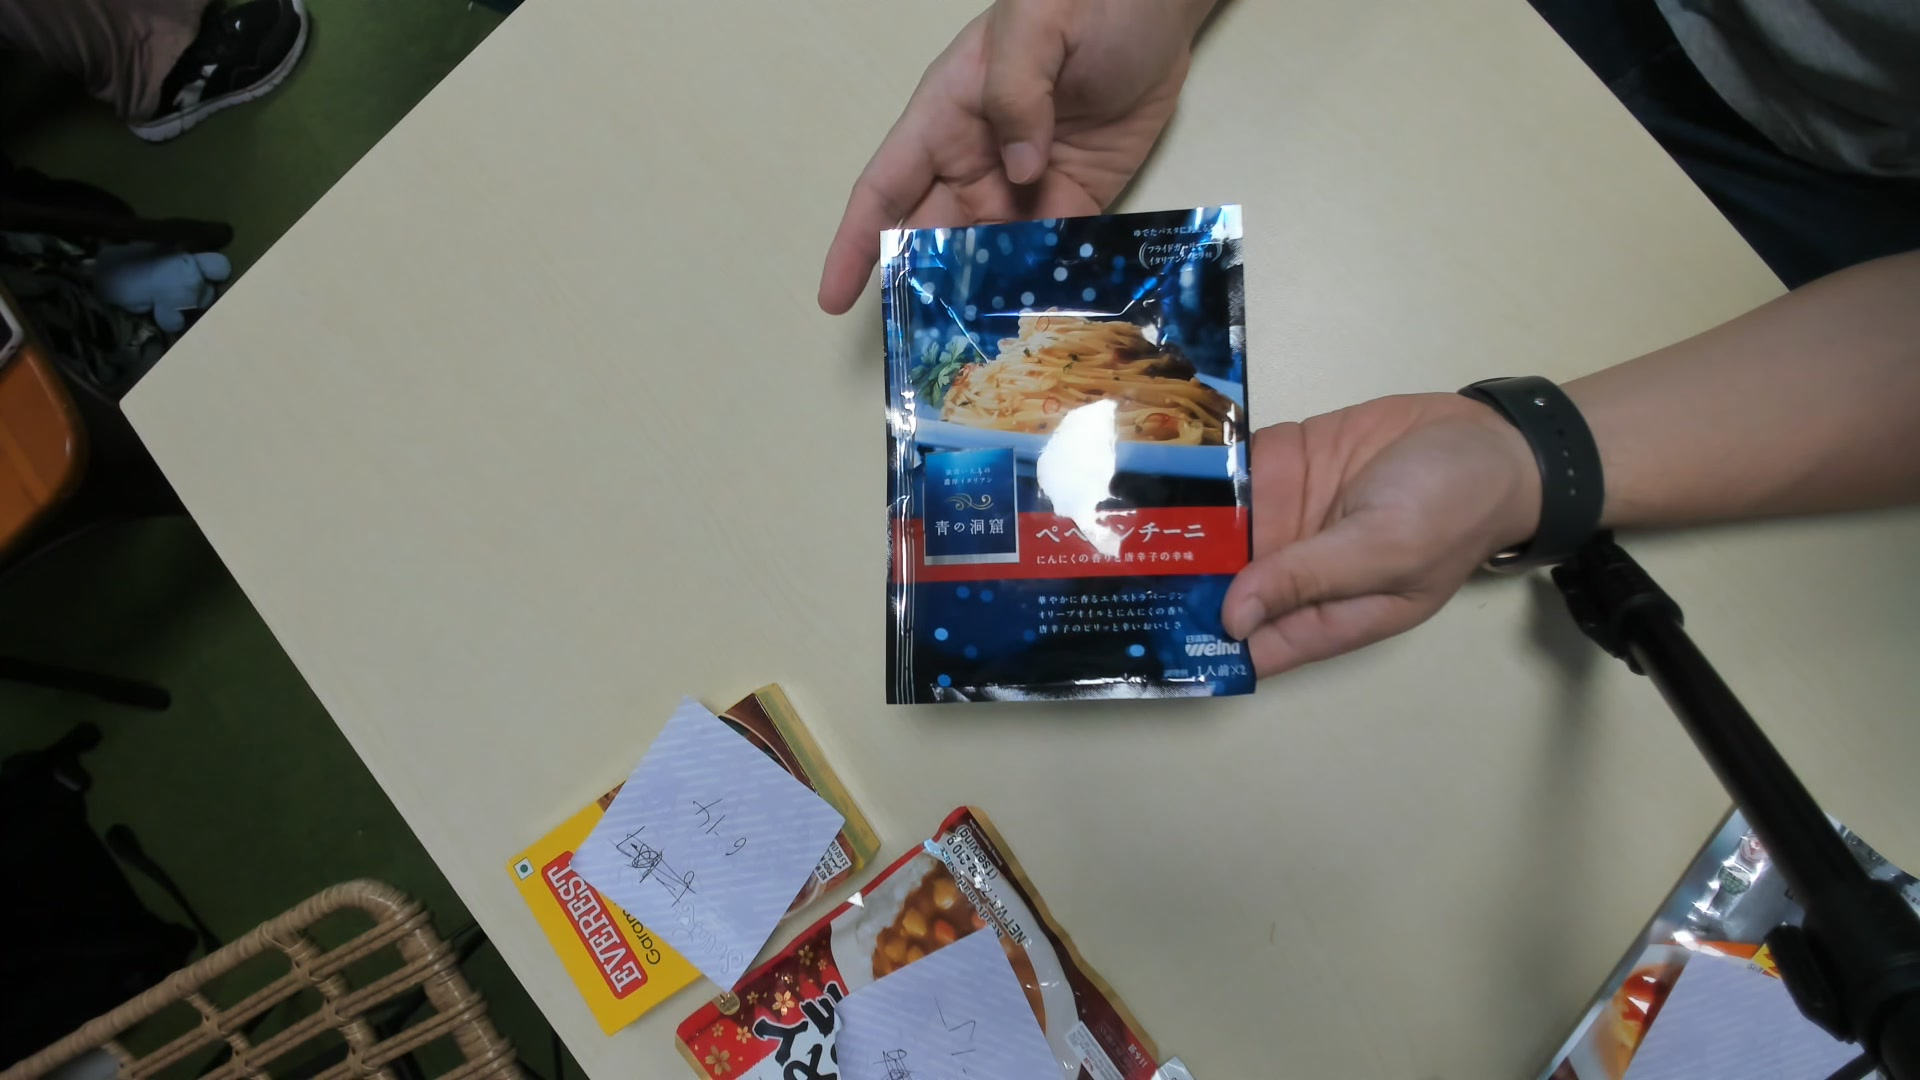CurryPastePowderSauce_0-99g_NonHalal_NonHealthy: (878, 204, 1254, 713)
